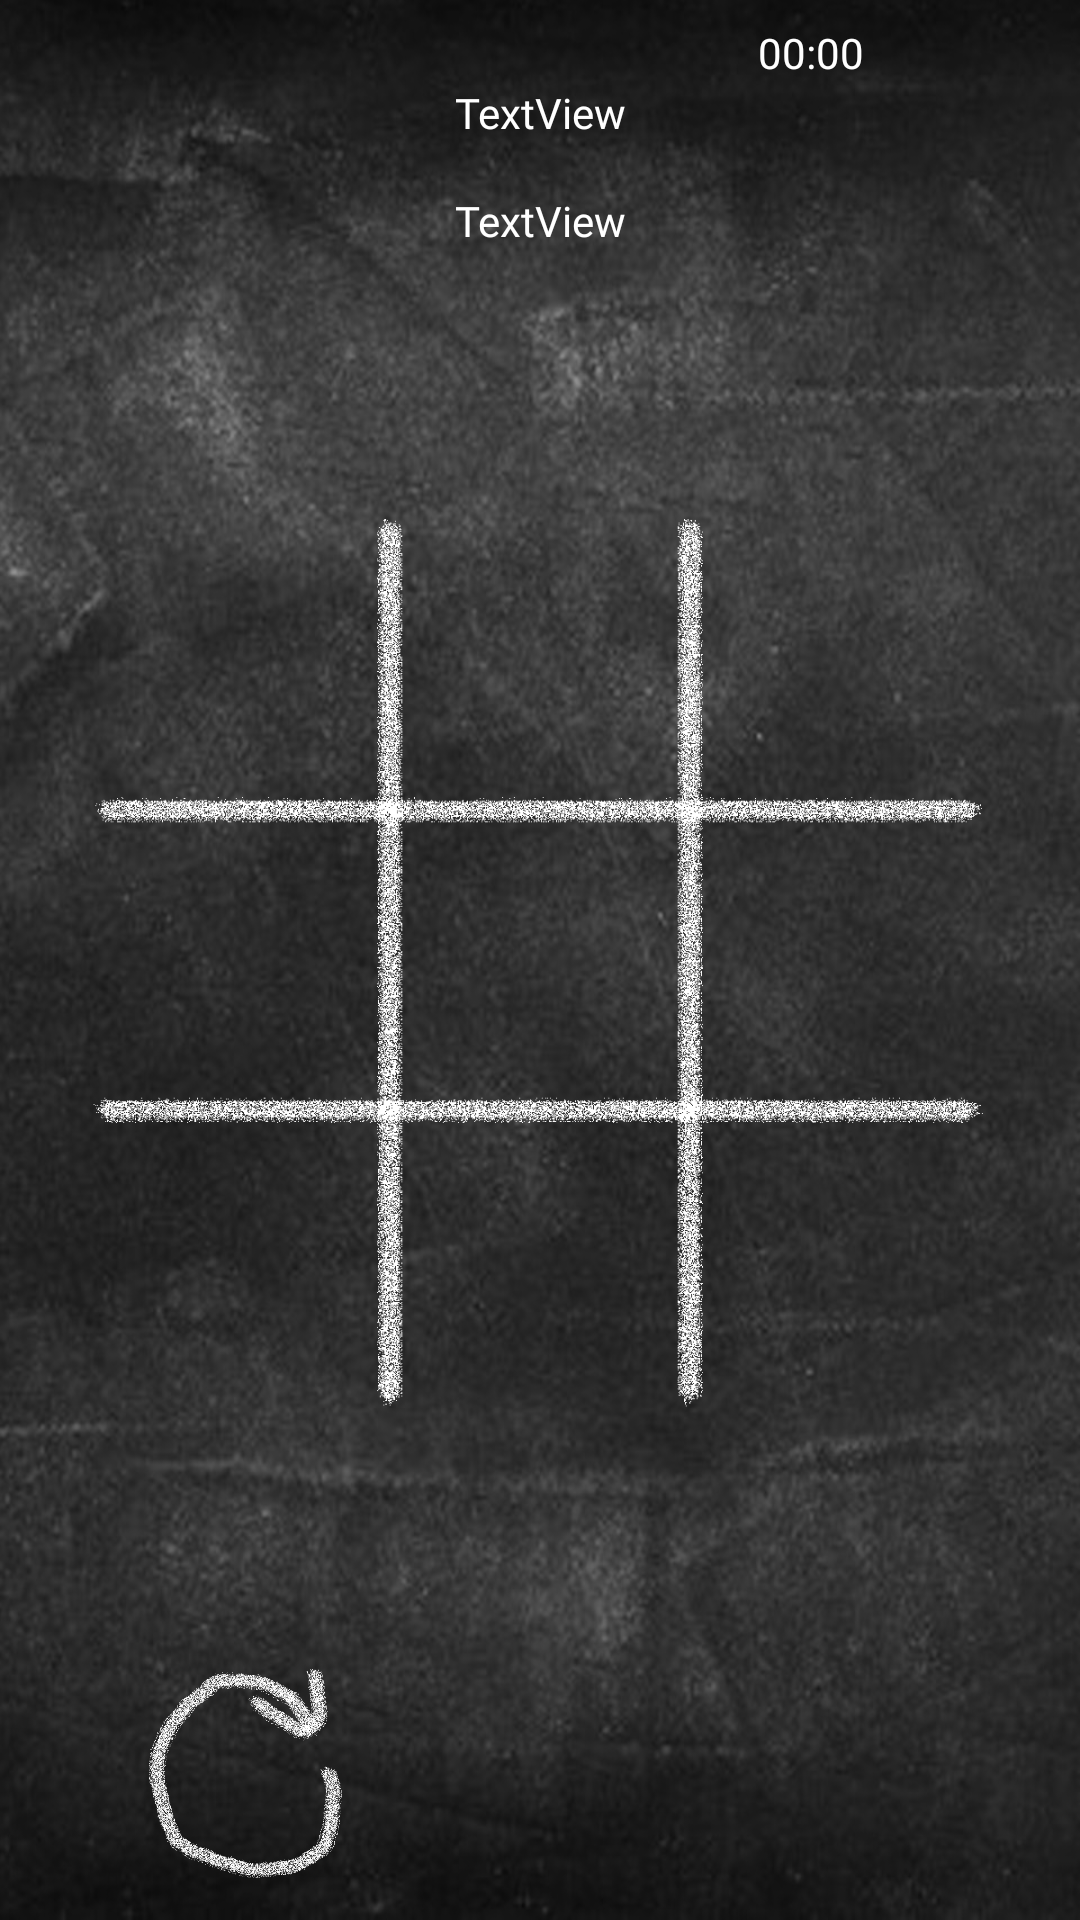

Screen size 1080 x 1920. Icon name, then its center in pixels as [x,y]:
reset board: [238,1780]
